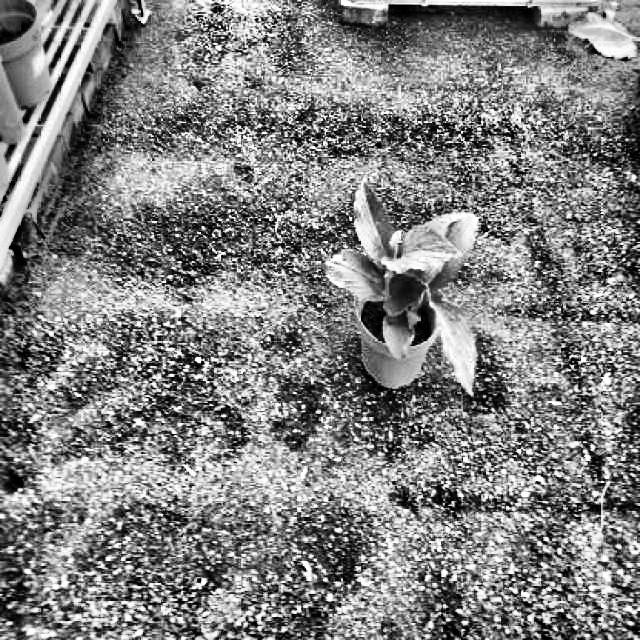plants: (316, 179, 482, 398)
